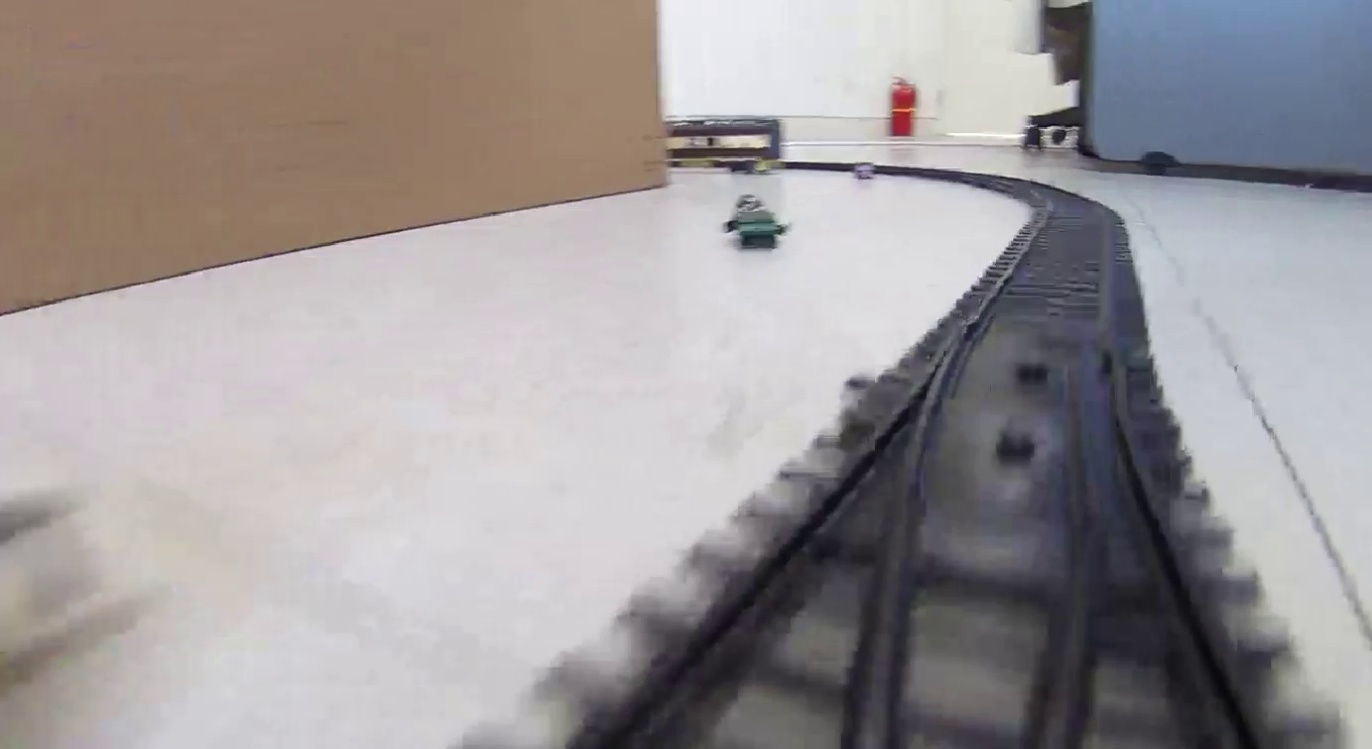people: (720, 192, 792, 252)
